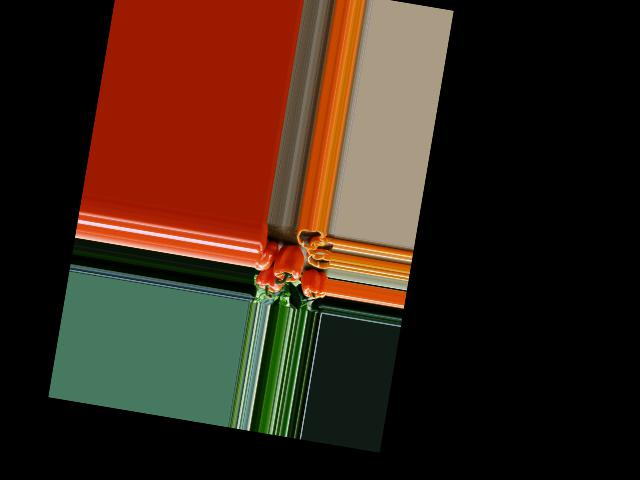bell_pepper: (254, 236, 279, 273)
